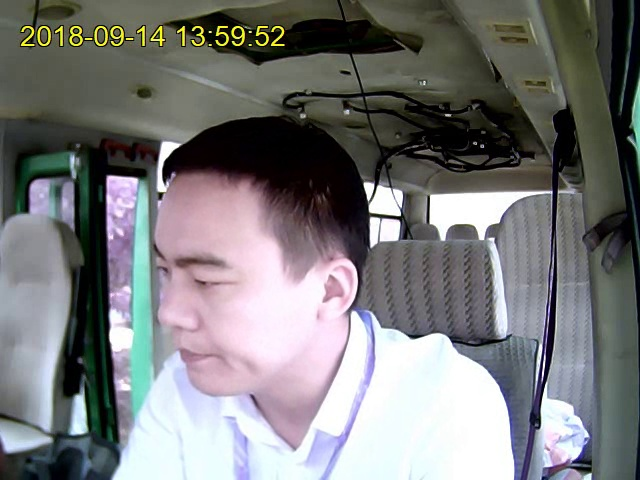closed_mouth: (175, 340, 217, 365)
